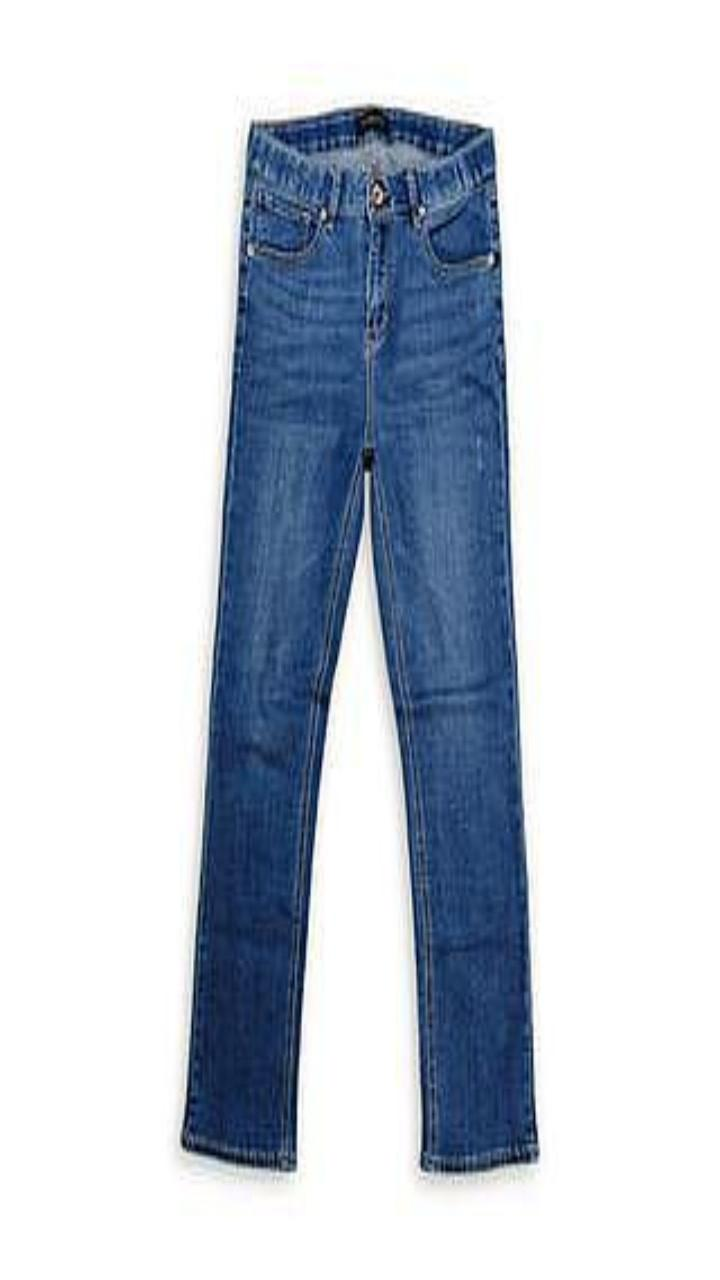Jeans: (183, 108, 537, 1170)
